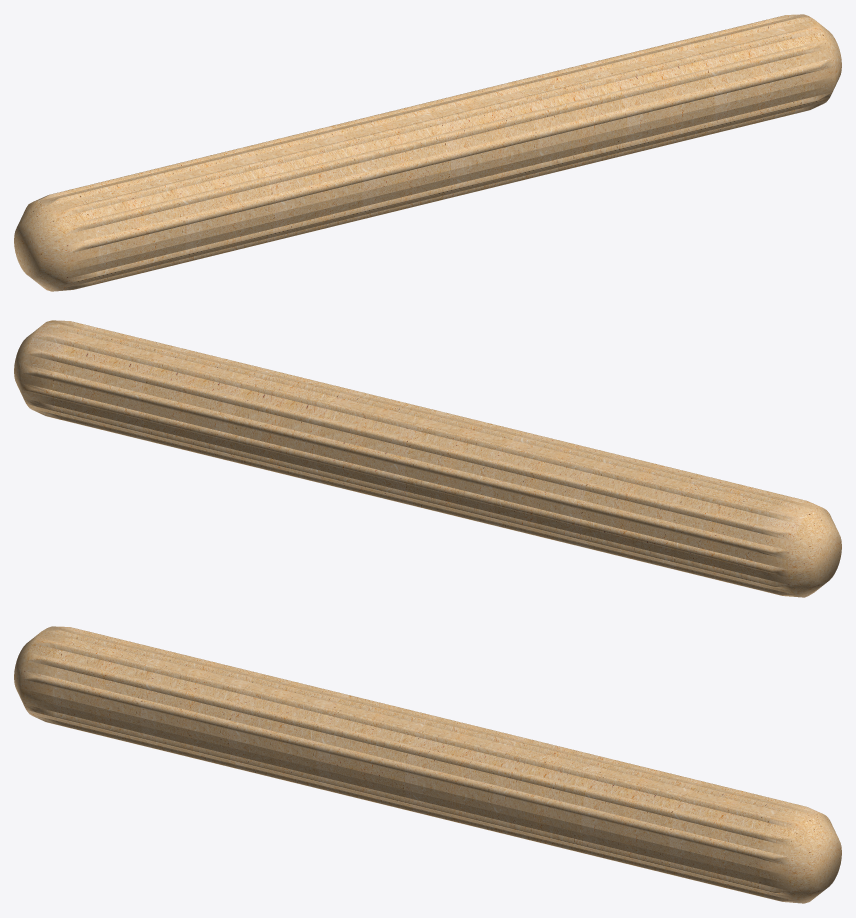
3 renders of one model, top to bottom at view 1: azimuth 30°, elevation 25°; view 2: azimuth 150°, elevation 25°; view 3: azimuth 330°, elevation 25°, orthographic.
Visible parts, largest first — view 1: pCylinder3; view 2: pCylinder3; view 3: pCylinder3.
Boxes of the visible parts, box(x1,y1,x2,y2) form: pCylinder3: box(14, 14, 841, 291); pCylinder3: box(14, 320, 841, 597); pCylinder3: box(14, 626, 841, 903).
Bounding box in the file's own units: 50 × 5.29 × 5.21.
1 material, 1 textured.
